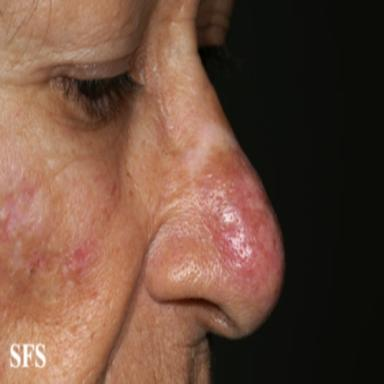Lupus-Erythematosus-Chronicus-Discoides: (196, 124, 282, 313), (0, 191, 97, 274)
